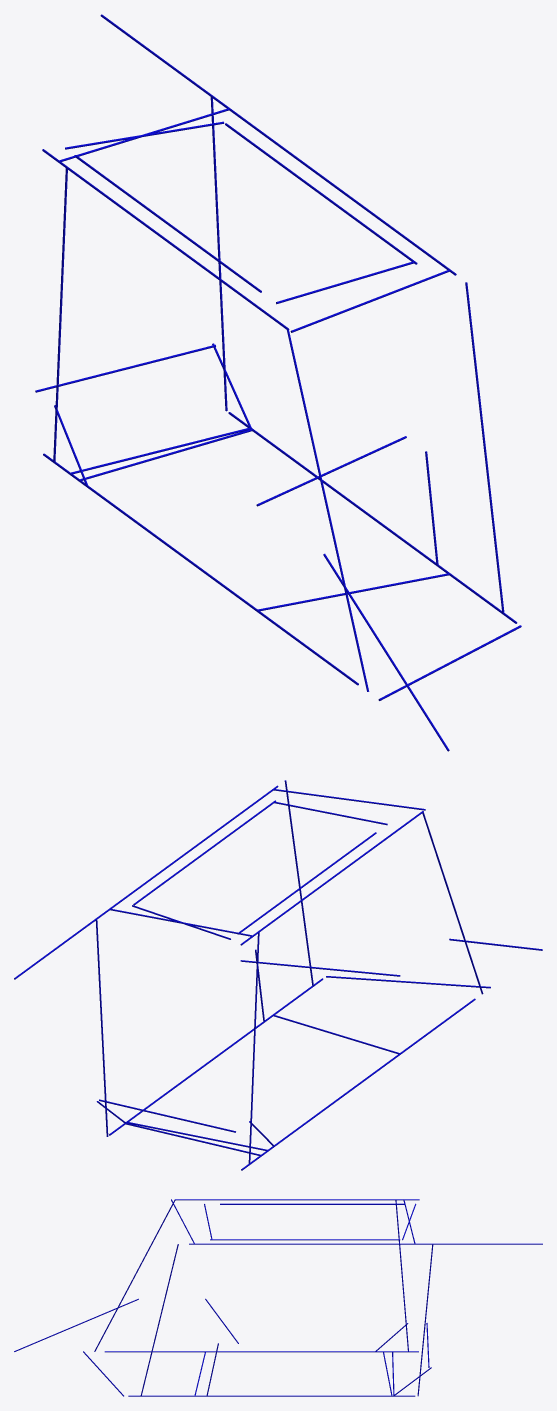
File: corrected_3d_strokes.glb
The picture shows the model from 3 angles, top to bottom: view 1: azimuth 30°, elevation 25°; view 2: azimuth 150°, elevation 25°; view 3: azimuth 270°, elevation 25°; orthographic projection. The views are drawn at different scales.
Parts seen in each view (by area): view 1: world; view 2: world; view 3: world.
Boxes of the visible parts, <box> form: world: <box>35,14,521,751</box>; world: <box>14,780,542,1170</box>; world: <box>14,1199,542,1396</box>.
Size of the model in its own units: 3.62 by 5.76 by 18.05.
